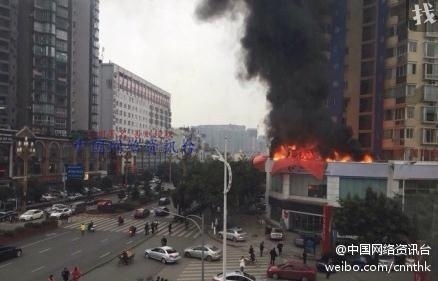fire: (271, 143, 373, 165)
